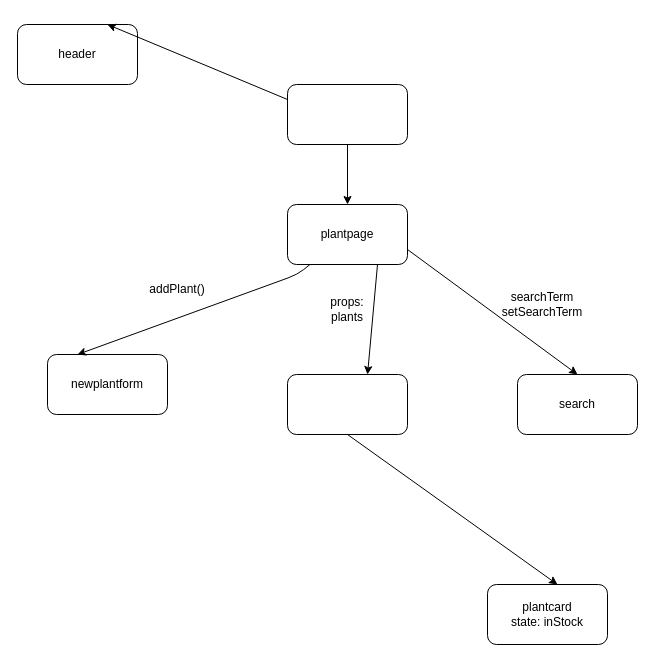
This 655x662 diagram has some shape labels left out. Here are the shapes that lost their labels. From the top down, the centre of each, then its label:
[347,114]: App fetch, filters state: plants
[347,404]: PlantList
